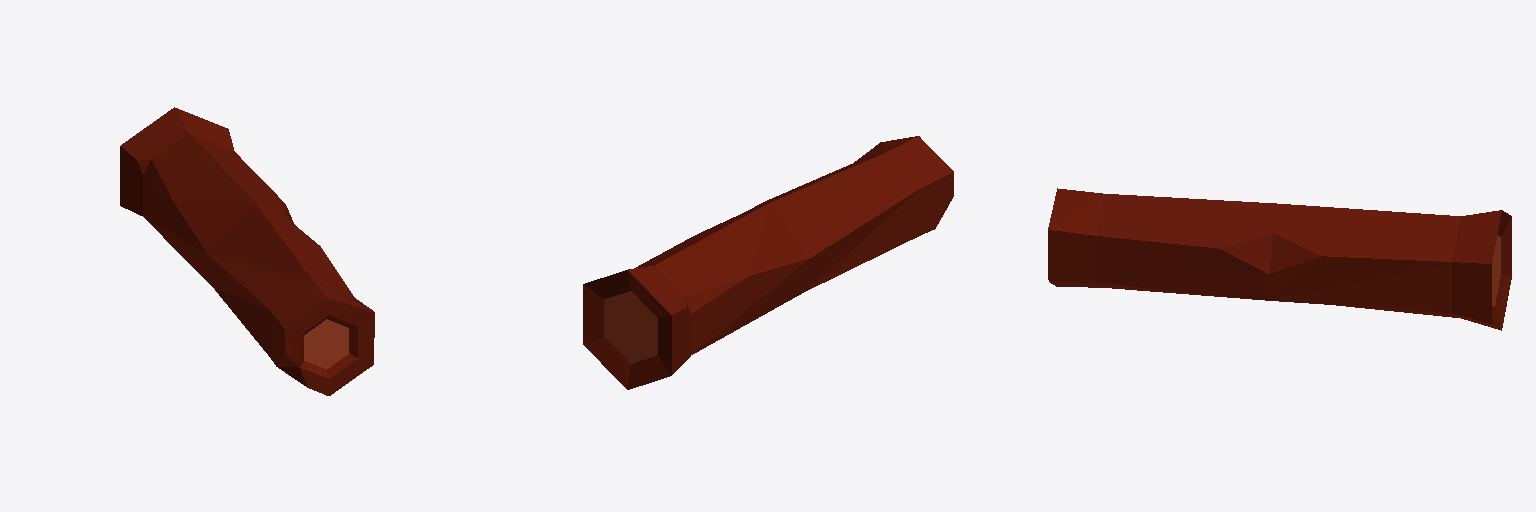
The model's file is Log.obj.
3 renders of one model, left to right at view 1: azimuth 30°, elevation 25°; view 2: azimuth 150°, elevation 25°; view 3: azimuth 270°, elevation 25°, orthographic.
Visible parts, largest first — view 1: Log_Cylinder.002; view 2: Log_Cylinder.002; view 3: Log_Cylinder.002.
Part boxes in pixels (bbox=[...]): Log_Cylinder.002: bbox=[120, 107, 374, 395]; Log_Cylinder.002: bbox=[583, 136, 953, 389]; Log_Cylinder.002: bbox=[1048, 188, 1511, 330].
Size of the model in its own units: 0.7207 by 0.5281 by 1.84.